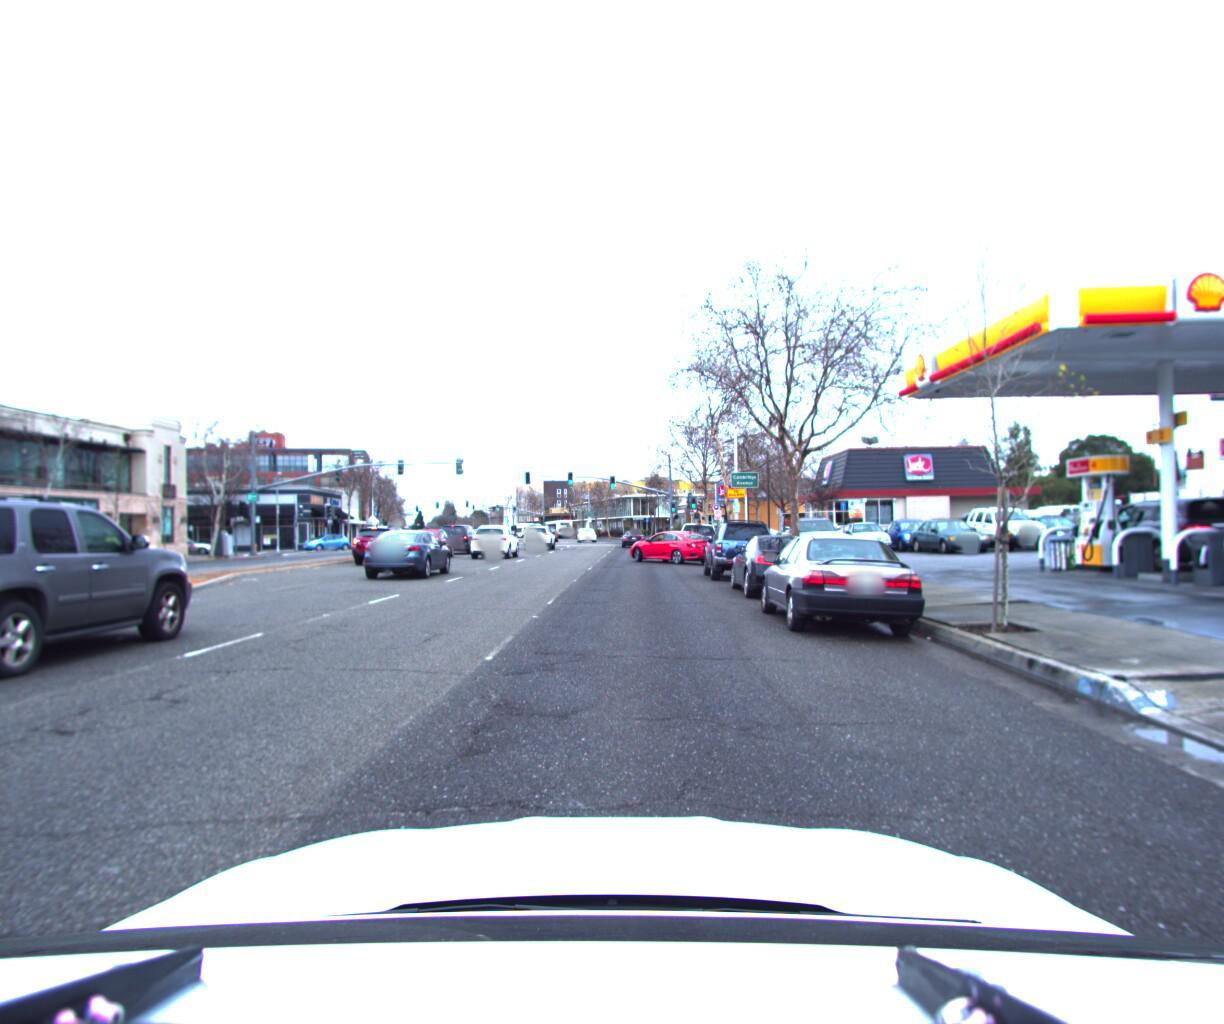car: (749, 525, 941, 643), (1072, 489, 1224, 568), (724, 529, 841, 601), (699, 514, 781, 581), (360, 528, 460, 581), (960, 500, 1053, 550), (347, 521, 426, 566), (627, 529, 725, 565), (1004, 506, 1090, 548), (904, 514, 993, 553), (784, 509, 844, 554), (879, 515, 940, 550), (674, 519, 725, 560), (835, 518, 894, 553), (470, 523, 523, 559), (404, 526, 460, 560), (438, 522, 488, 554), (297, 534, 351, 552), (522, 526, 558, 552), (620, 527, 645, 545), (578, 529, 599, 543)
